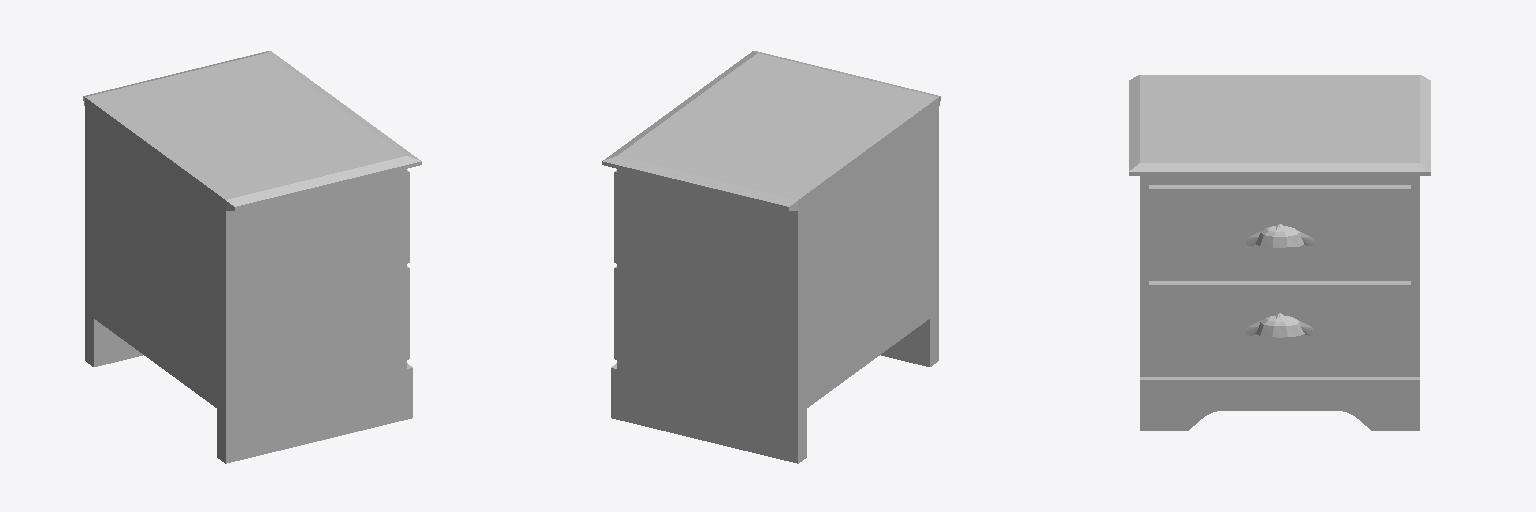
File: nightstand.obj
3 renders of one model, left to right at view 1: azimuth 30°, elevation 25°; view 2: azimuth 150°, elevation 25°; view 3: azimuth 270°, elevation 25°, orthographic.
Bounding box in the file's own units: 65.86 × 82.49 × 85.81.